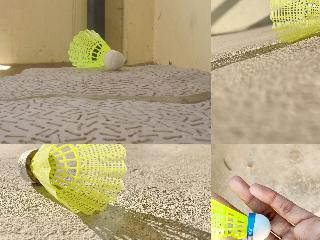shuttlecock: (17, 144, 126, 215), (211, 189, 270, 239), (68, 29, 124, 69), (269, 0, 319, 43)
